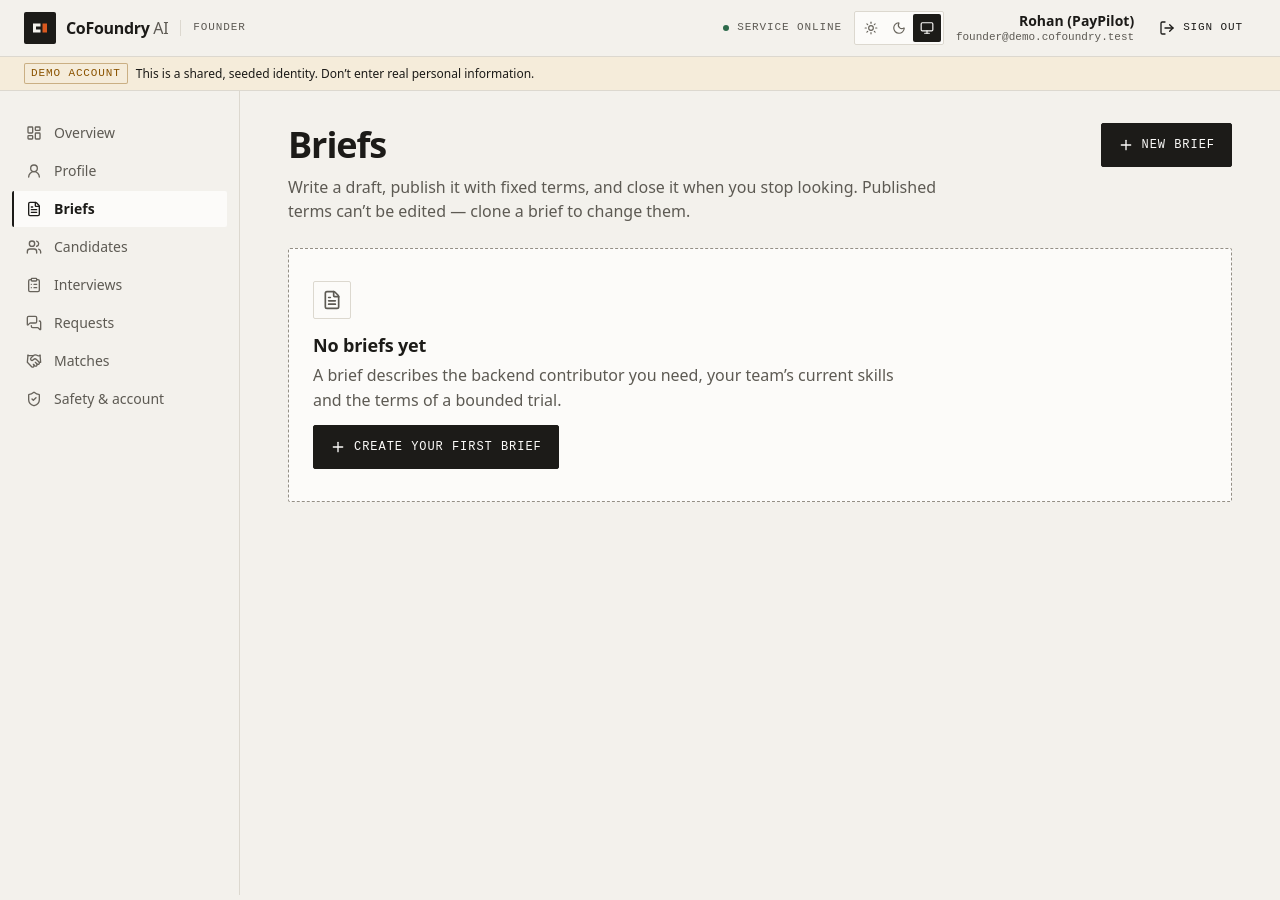
Test: founder brief list › shows the empty state, creates a draft with an Idempotency-Key and opens it
Expected: the text "No briefs yet" is shown, [313,333,426,357]
Click the button "Create your first brief" at (436, 447), box [313,425,559,469]
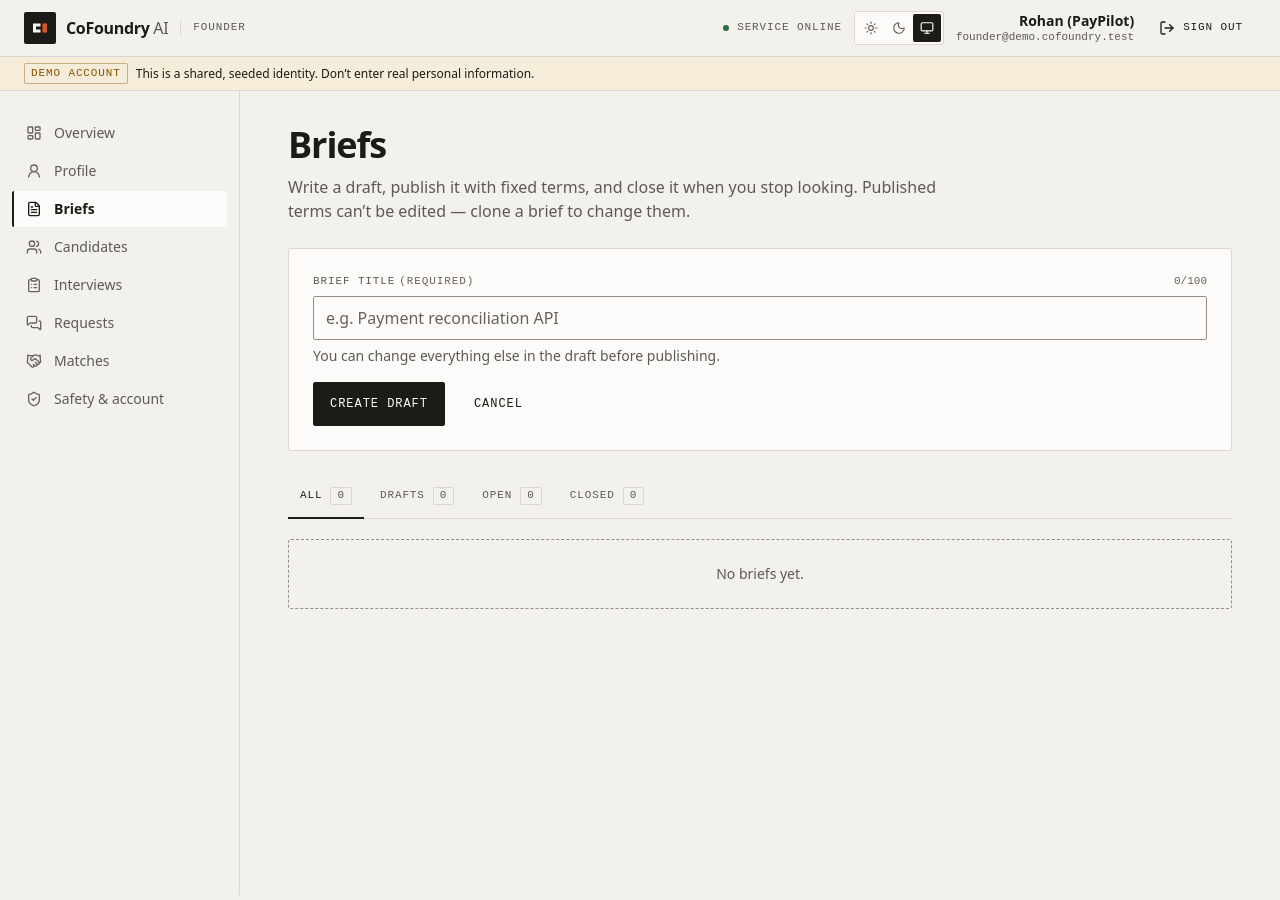
Type "Payment API" into the field labelled "Brief title(required)" at (760, 318), box [313,296,1207,340]
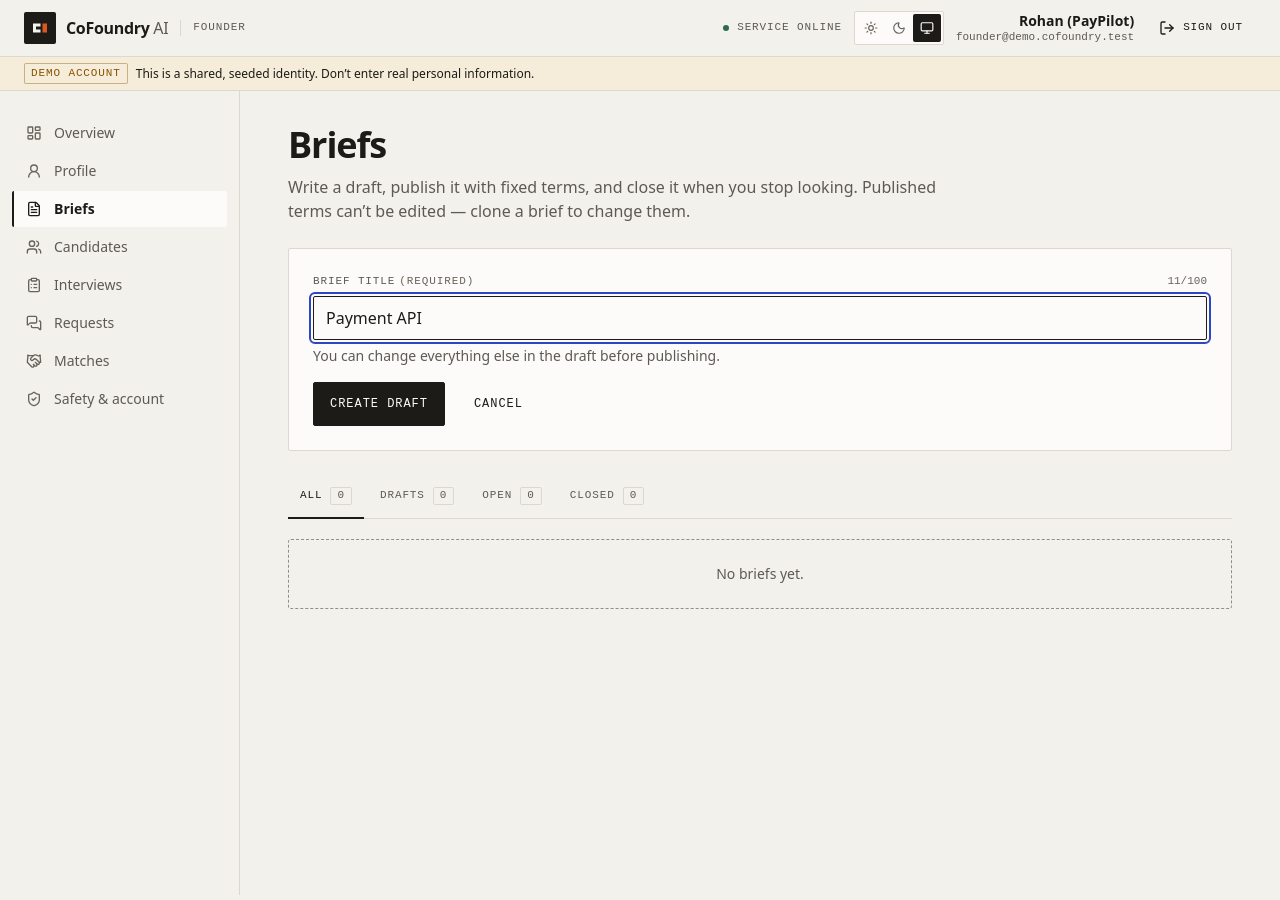
Click the button "Create draft" at (379, 404), box [313,382,445,426]
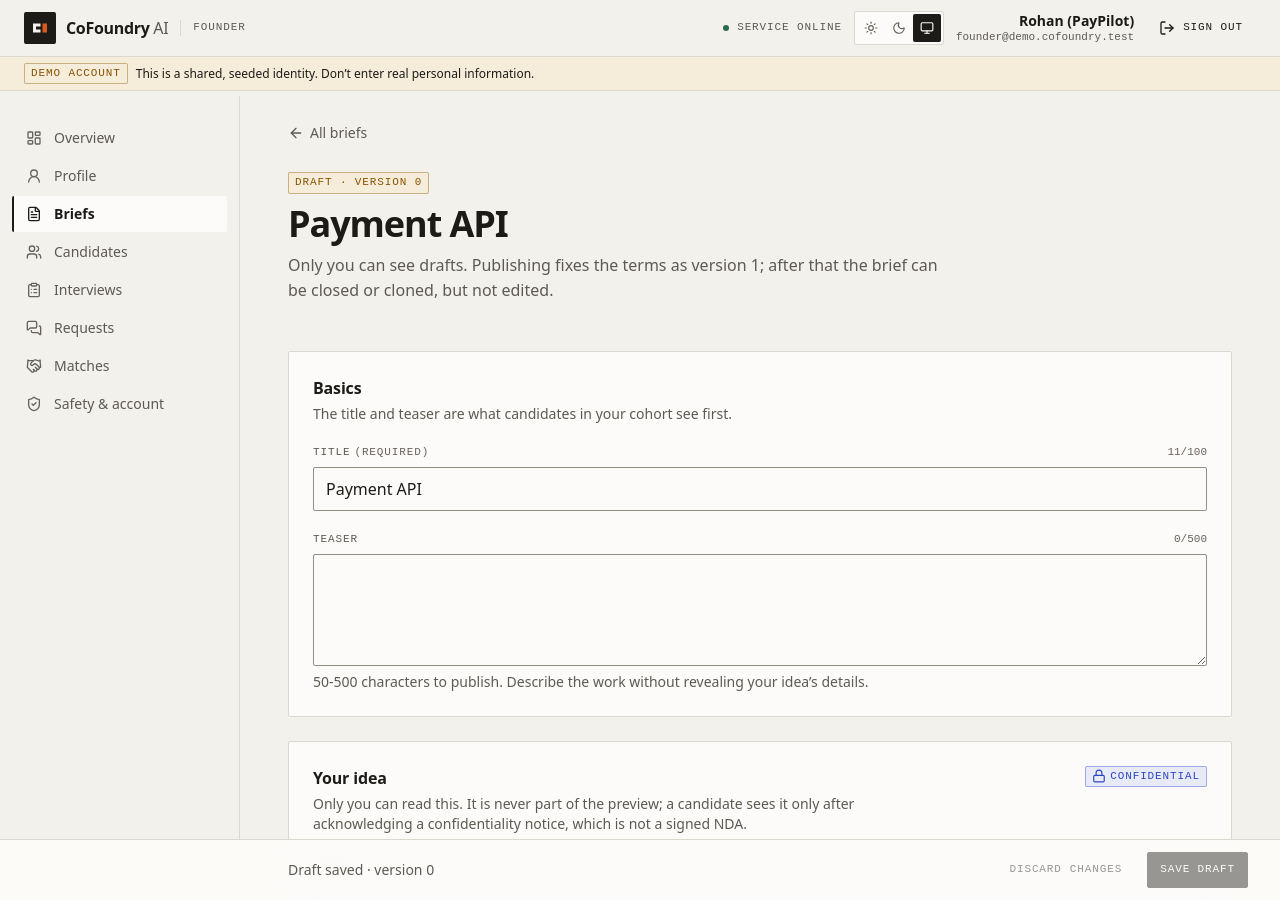
Now the heading "Payment API" is shown, box [288,199,508,248]
